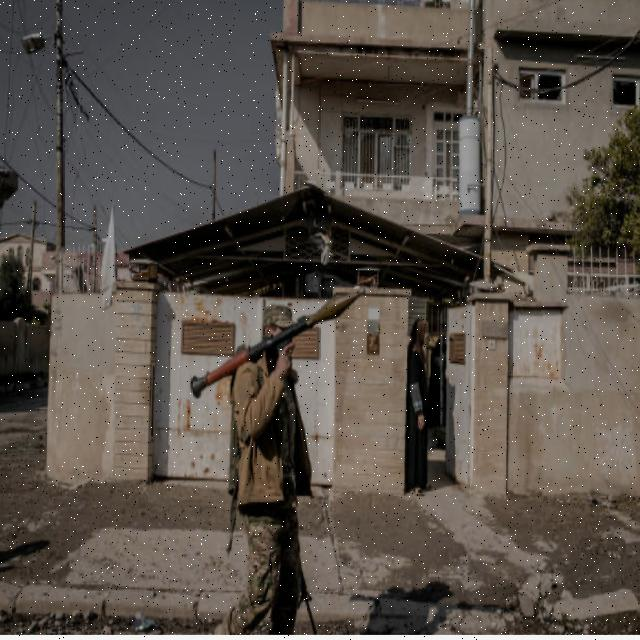bazooka: (186, 282, 369, 403)
